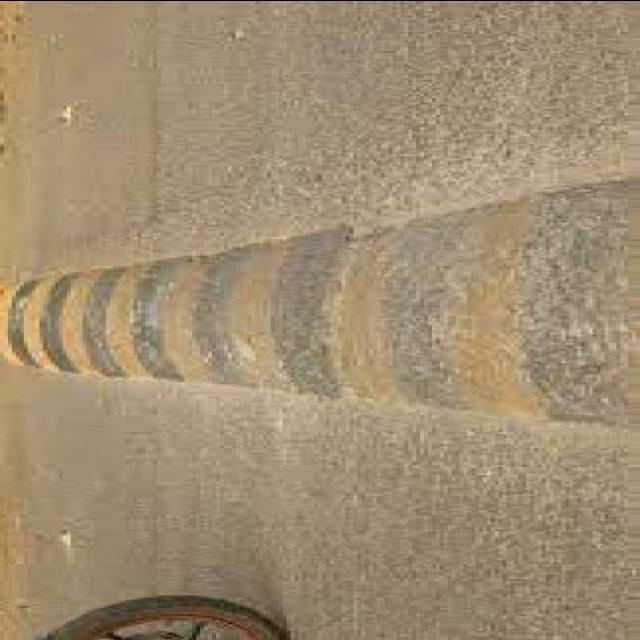speedbreaker: (0, 170, 640, 424)
